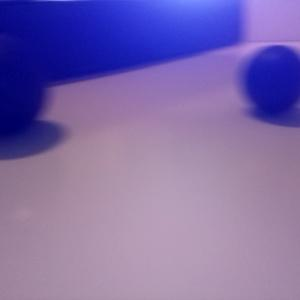dead_ball: (1, 30, 47, 133), (242, 46, 300, 111)
